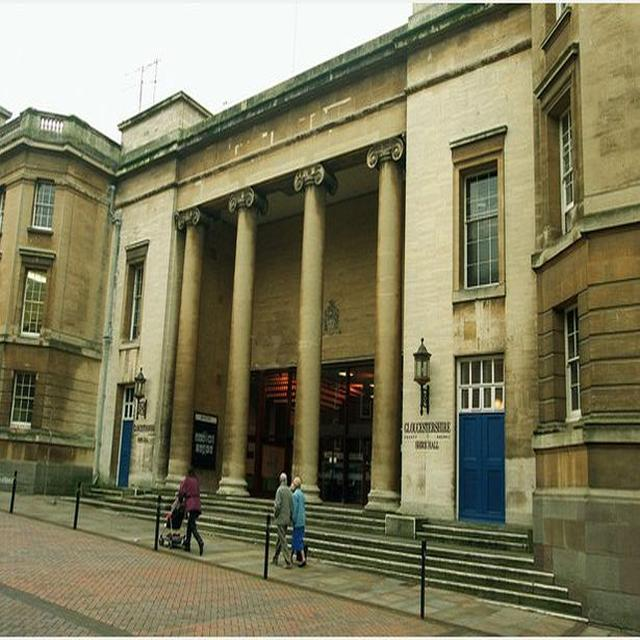Person-RiskLevel0: (159, 458, 216, 560), (292, 471, 315, 570), (270, 468, 292, 567)
